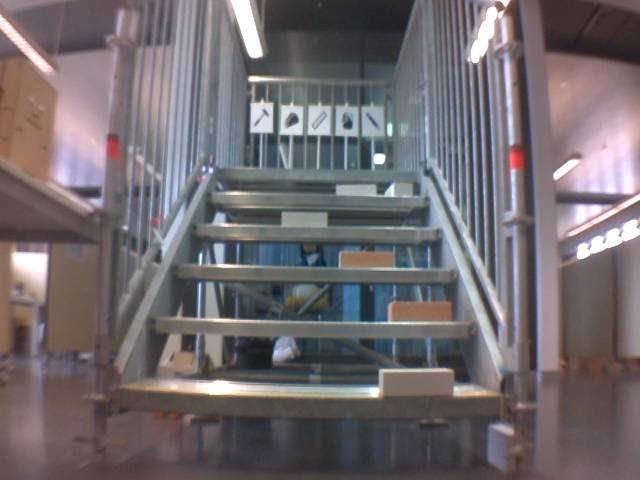brick: (381, 368, 454, 397), (389, 302, 451, 321), (340, 251, 393, 269), (281, 212, 326, 227), (337, 185, 375, 196), (387, 183, 412, 197)
bucket: (338, 109, 356, 131)
edge: (121, 388, 496, 415), (150, 316, 478, 335), (173, 264, 458, 283), (191, 224, 443, 238), (207, 192, 429, 207), (215, 168, 419, 182)
hammer: (251, 105, 270, 129)
pencil: (364, 111, 383, 132)
ruler: (311, 109, 327, 130)
stairs: (88, 1, 542, 468)
steps: (117, 164, 502, 418)
taco: (282, 110, 300, 128)
